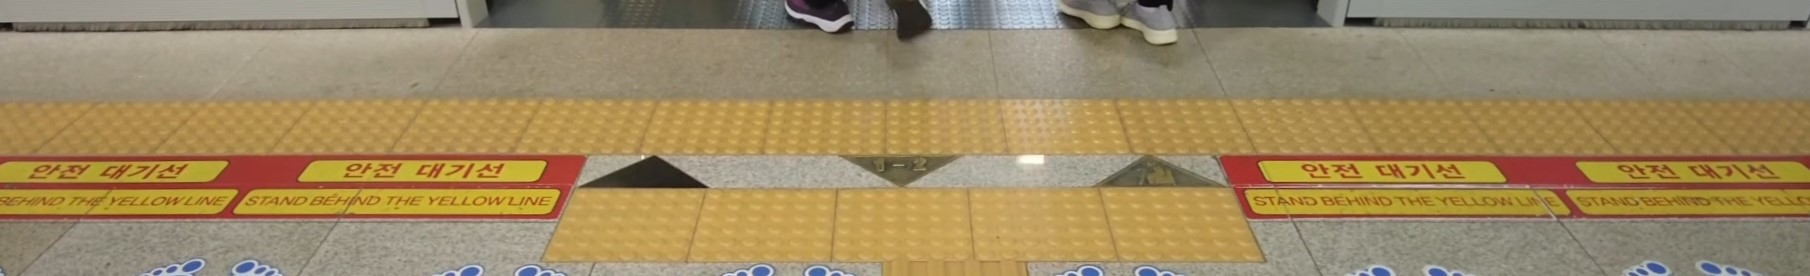warningBlock: (1110, 182, 1243, 263), (1587, 82, 1736, 151), (1481, 92, 1593, 182), (882, 85, 1010, 161), (1242, 91, 1409, 146), (1115, 98, 1249, 162), (701, 194, 818, 262), (63, 91, 202, 149), (842, 189, 972, 249), (983, 194, 1106, 258), (563, 195, 693, 251), (517, 100, 637, 159), (296, 105, 413, 164), (170, 100, 283, 152), (1373, 105, 1478, 155), (410, 100, 517, 149), (784, 103, 883, 155), (642, 105, 760, 148), (1722, 113, 1810, 161), (1009, 115, 1114, 155), (18, 95, 77, 148)
